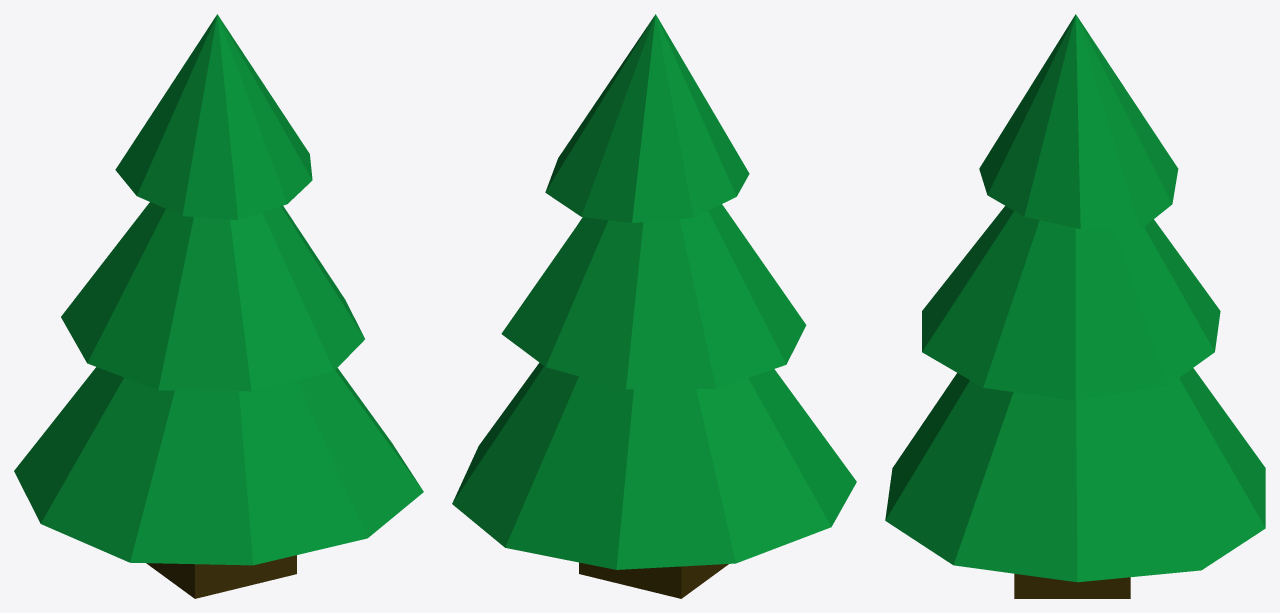
The model's file is PineTree.obj.
3 renders of one model, left to right at view 1: azimuth 30°, elevation 25°; view 2: azimuth 150°, elevation 25°; view 3: azimuth 270°, elevation 25°, orthographic.
Visible parts, largest first — view 1: Куб.016; view 2: Куб.016; view 3: Куб.016.
Boxes of the visible parts, x1=… form: Куб.016: x1=14, y1=14, x2=423, y2=598; Куб.016: x1=452, y1=14, x2=856, y2=598; Куб.016: x1=885, y1=14, x2=1265, y2=598.
Bounding box in the file's own units: 4.21 × 6.3 × 3.88.
